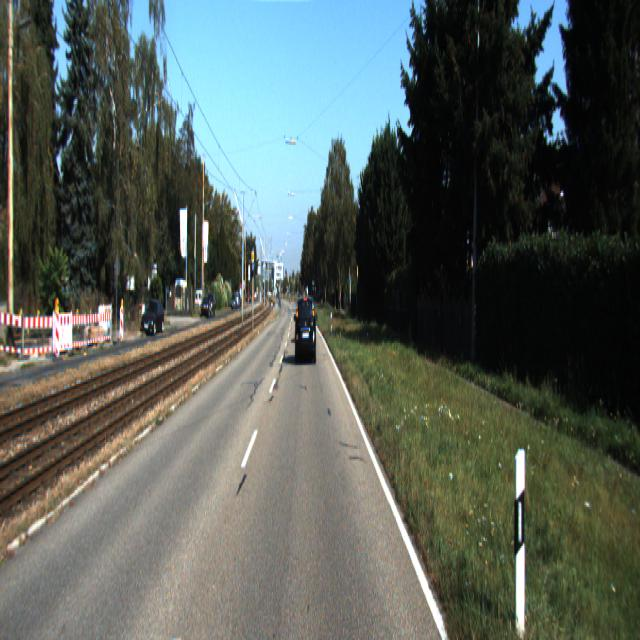Car: (296, 295, 317, 365), (142, 299, 166, 336)
